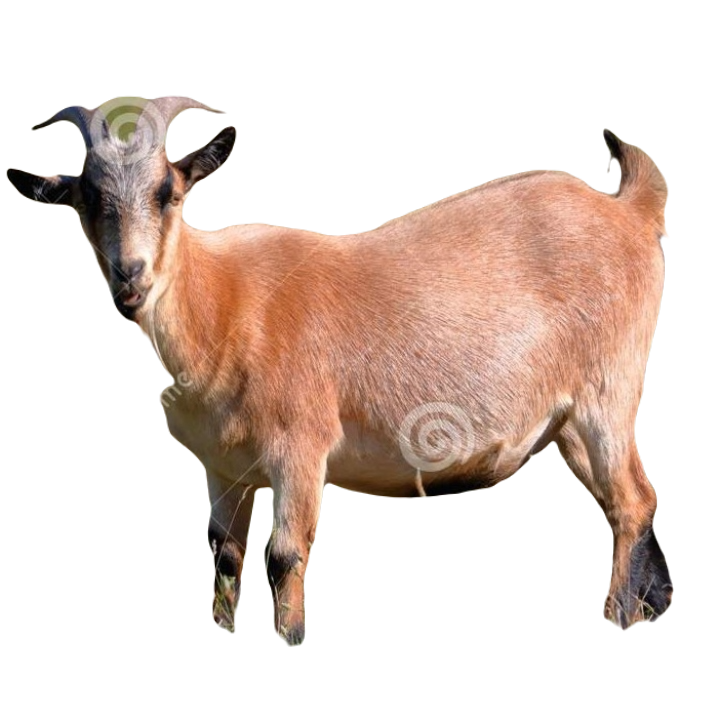Goat: (5, 93, 670, 647)
